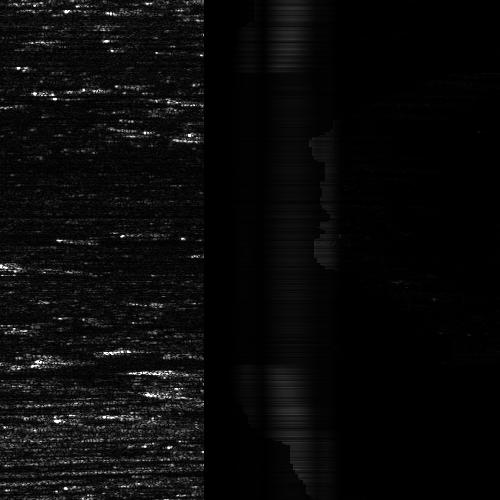shadow: (0, 202, 101, 211), (0, 12, 23, 21)
